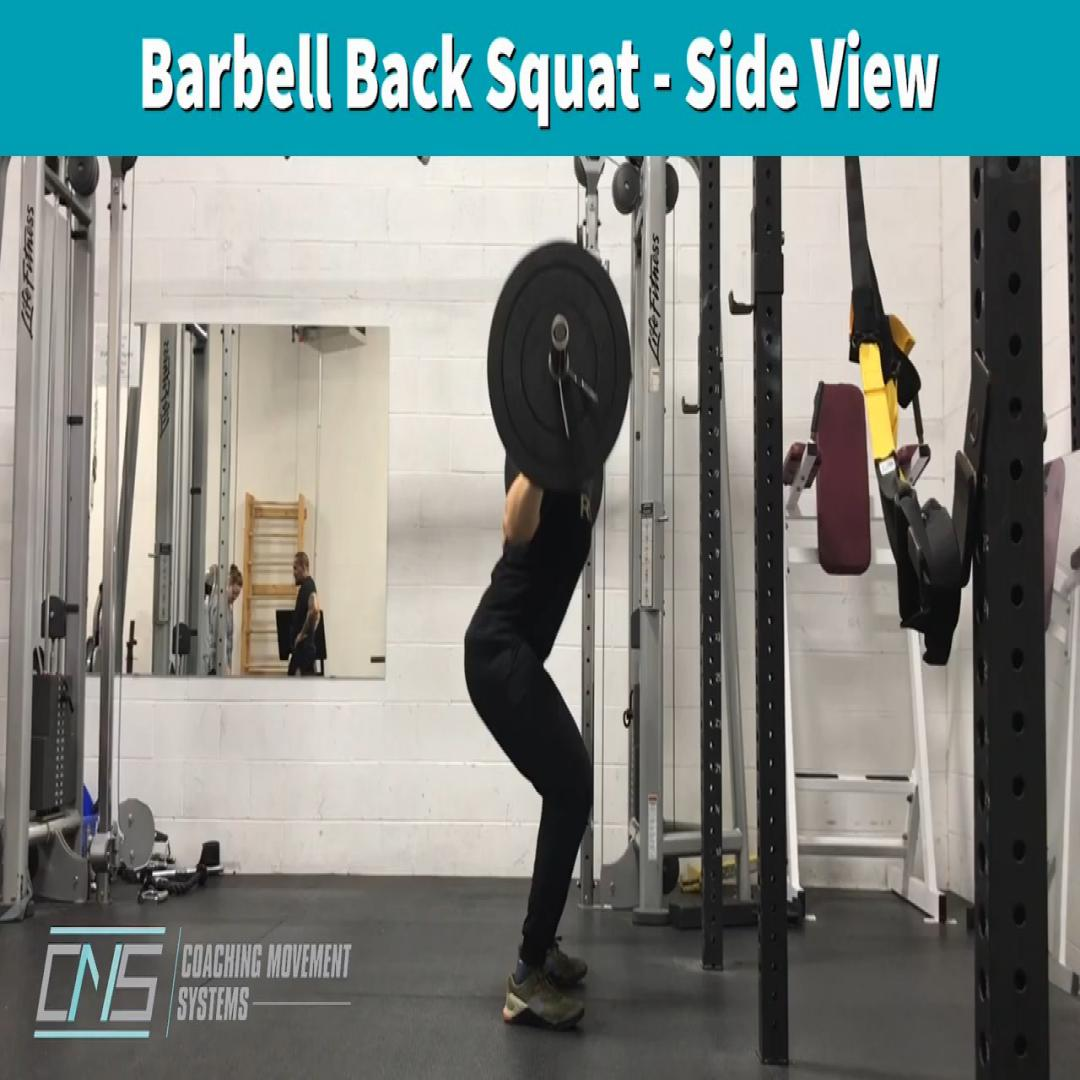Bar: (551, 316, 568, 350)
Barbell: (487, 240, 629, 492)
